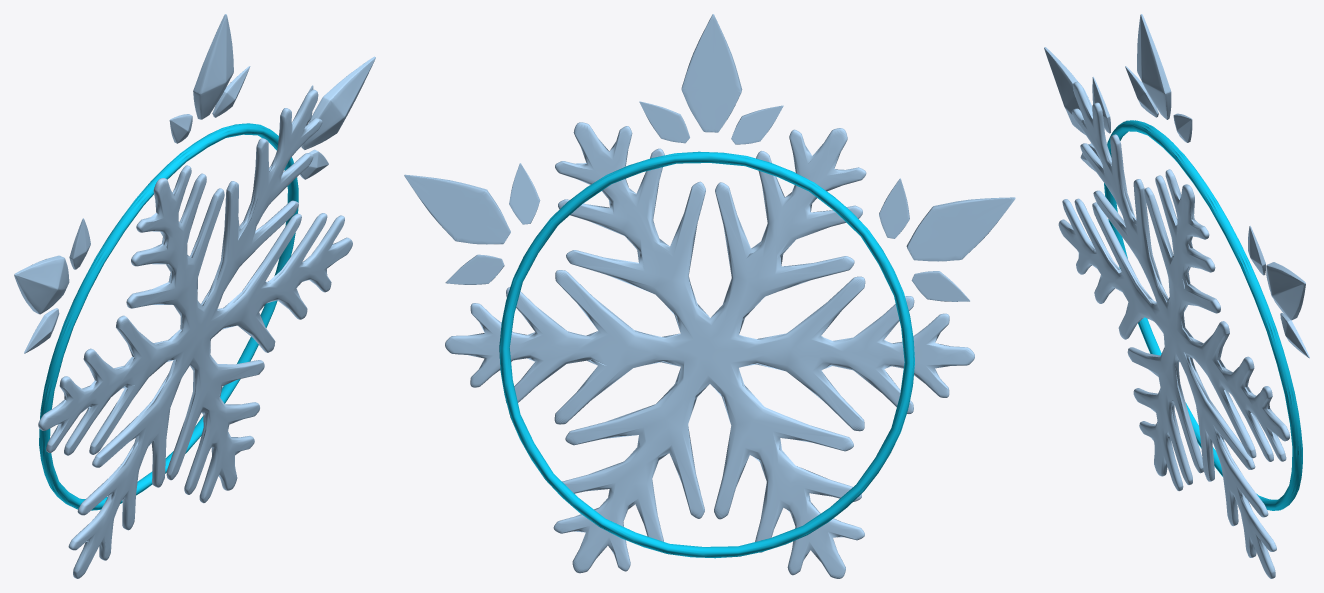
3 renders of one model, left to right at view 1: azimuth 30°, elevation 25°; view 2: azimuth 150°, elevation 25°; view 3: azimuth 270°, elevation 25°, orthographic. The views are drawn at different scales.
Parts seen in each view (by area): view 1: snowflake_002, crystals_015, back_epic; view 2: snowflake_002, crystals_015, back_epic; view 3: snowflake_002, crystals_015, back_epic.
Boxes of the visible parts, x1,y1,x2,y2 form: snowflake_002: (38,89,352,578); crystals_015: (14,14,375,353); back_epic: (39,123,298,510); snowflake_002: (445,122,974,578); crystals_015: (404,14,1015,301); back_epic: (499,151,914,558); snowflake_002: (1058,81,1289,578); crystals_015: (1044,14,1309,358); back_epic: (1104,120,1302,510).
Bounding box in the file's own units: 135 × 64.4 × 142.
